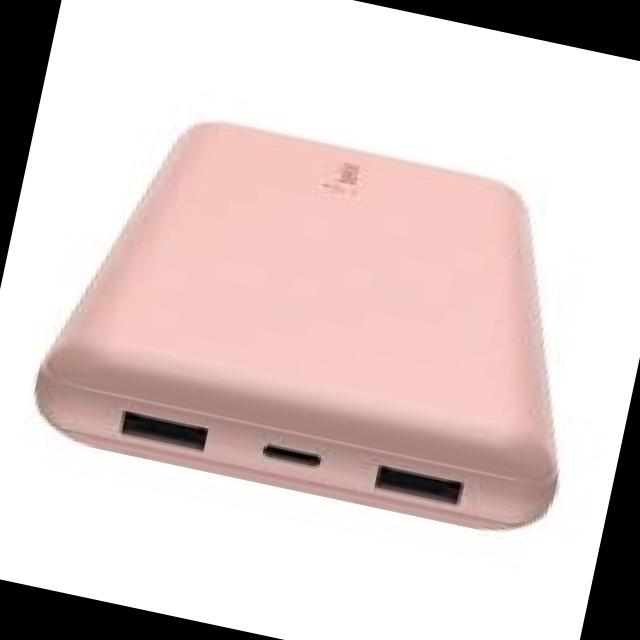power_bank: (17, 84, 624, 552)
